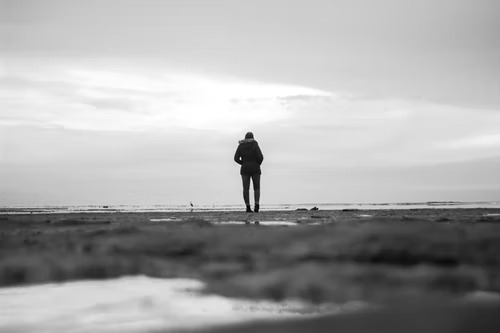person: (233, 132, 264, 212)
